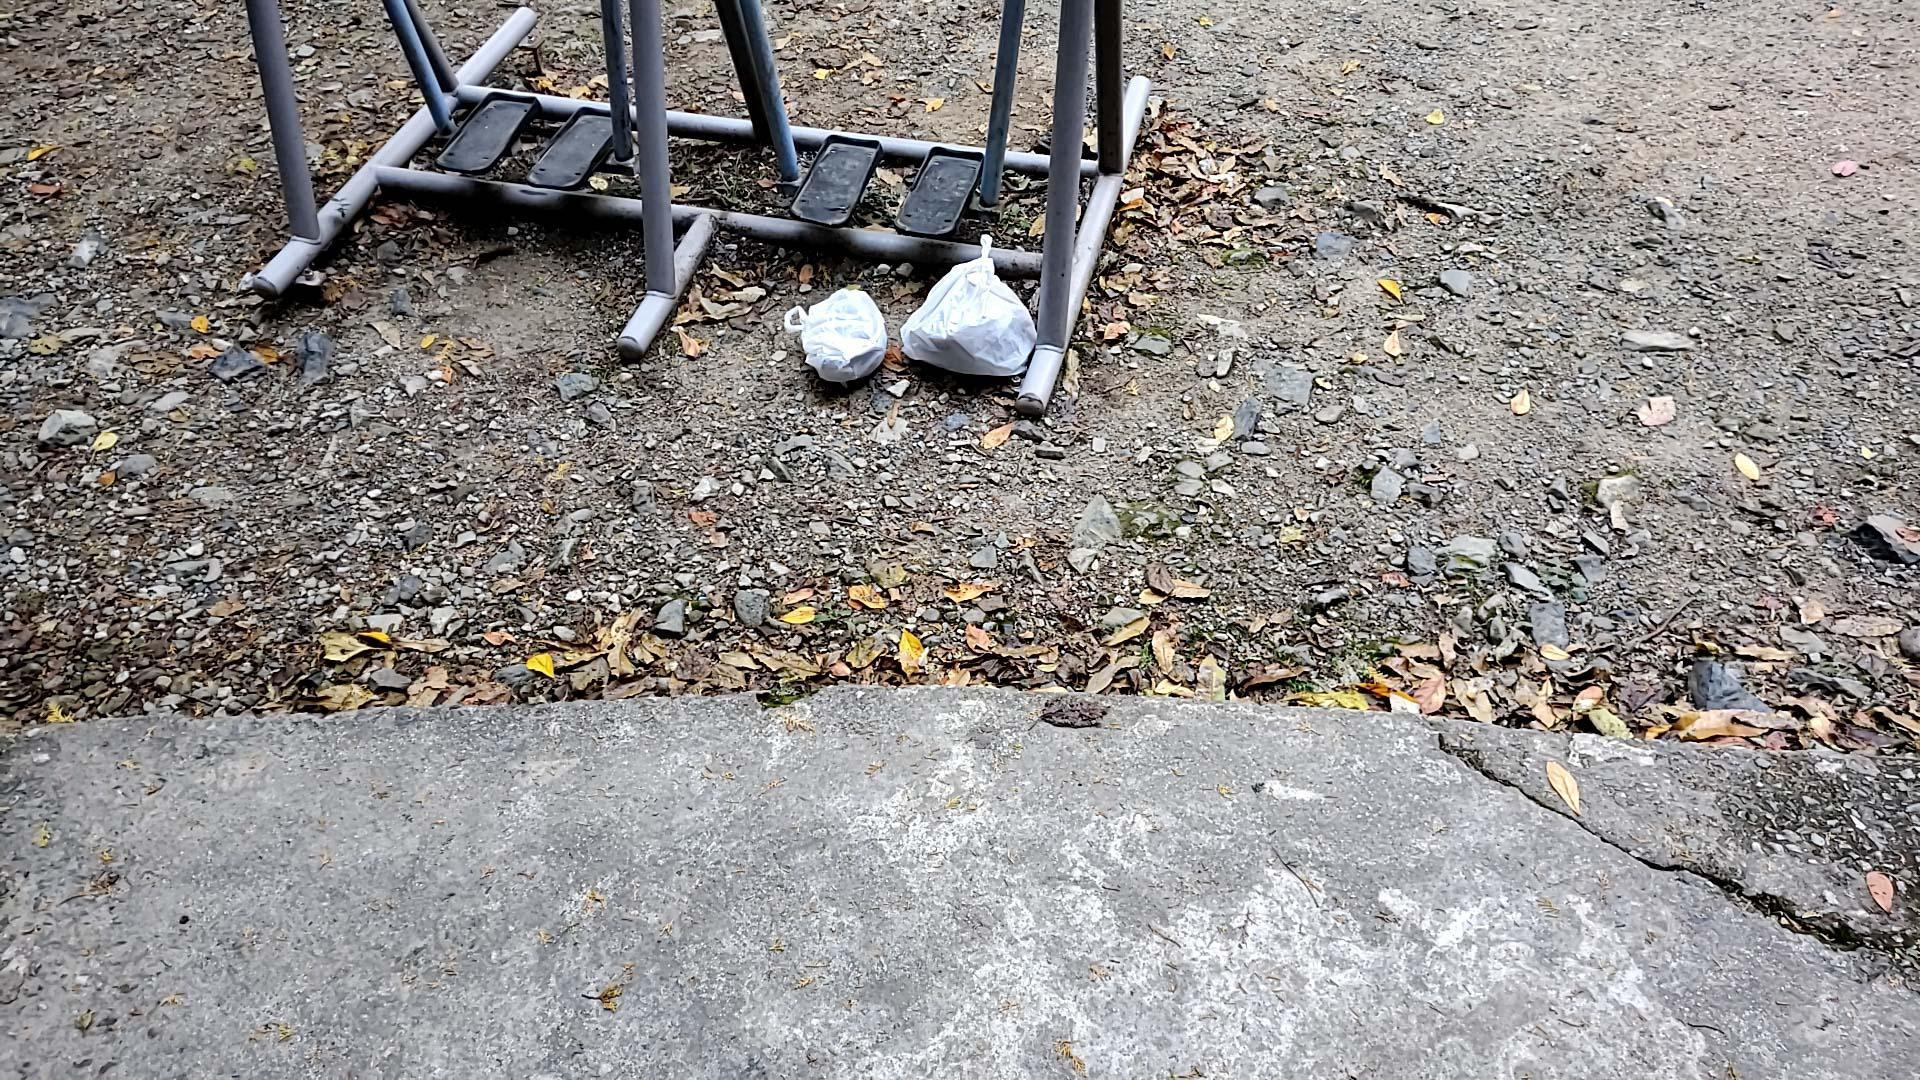white_bag: (898, 229, 1038, 375), (781, 282, 889, 392)
